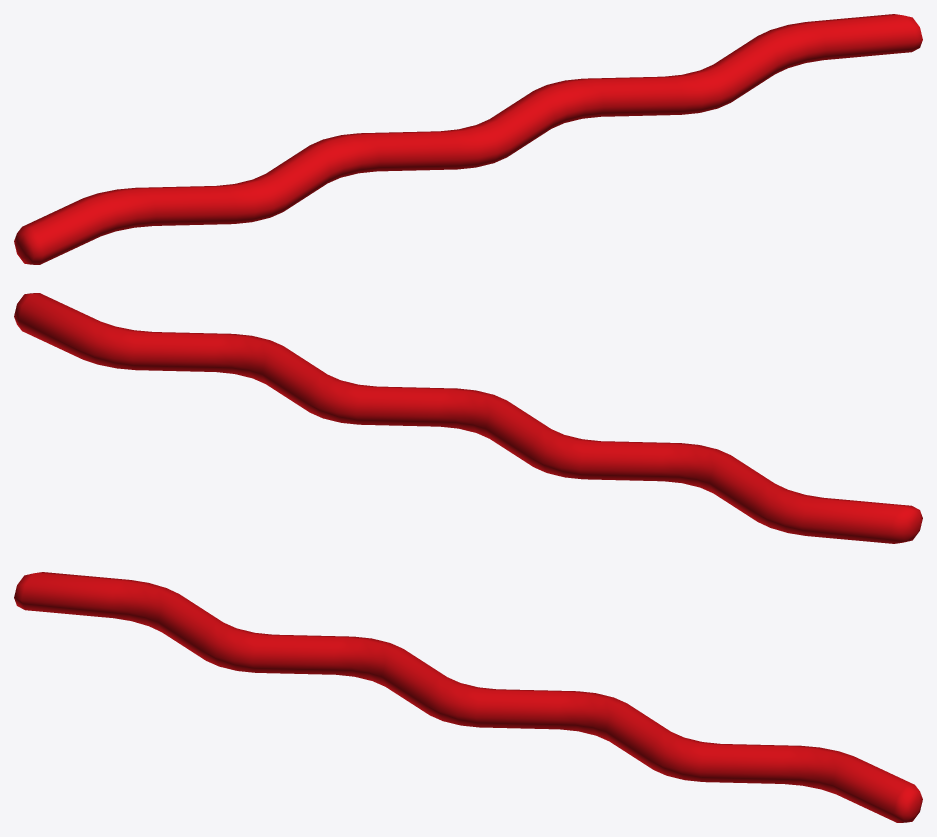
The model's file is Souse.001.fbx.
3 renders of one model, top to bottom at view 1: azimuth 30°, elevation 25°; view 2: azimuth 150°, elevation 25°; view 3: azimuth 330°, elevation 25°, orthographic.
Visible parts, largest first — view 1: Souse.001; view 2: Souse.001; view 3: Souse.001.
Boxes of the visible parts, x1,y1,x2,y2 form: Souse.001: (14, 14, 922, 264); Souse.001: (14, 293, 922, 543); Souse.001: (14, 572, 922, 822).
Bounding box in the file's own units: 153 × 14.66 × 5.82.
